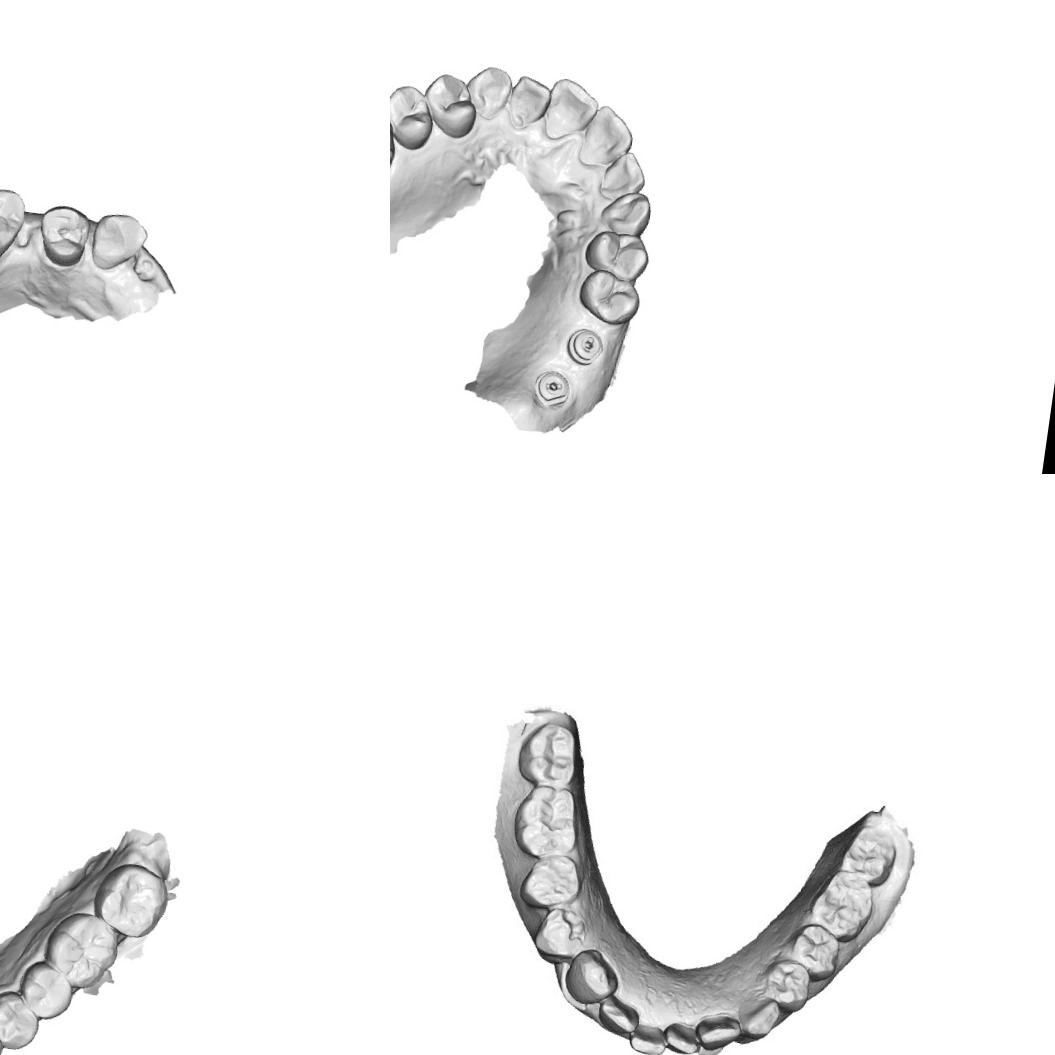canine: (87, 205, 152, 279), (560, 945, 620, 1005), (597, 187, 657, 240), (462, 62, 514, 123), (736, 990, 784, 1042)
implant_minus: (562, 324, 608, 368), (530, 367, 574, 410)
incisor: (538, 74, 602, 145), (576, 102, 638, 172), (503, 72, 554, 136), (596, 147, 651, 203), (595, 992, 644, 1036), (699, 1014, 743, 1054), (627, 1021, 668, 1055), (666, 1021, 701, 1055)
molar: (88, 856, 174, 943), (39, 908, 123, 994), (508, 780, 587, 865), (804, 866, 880, 946), (513, 718, 586, 790), (835, 824, 901, 890), (0, 175, 30, 275)
premolar: (515, 848, 586, 914), (419, 70, 482, 142), (574, 266, 644, 328), (32, 200, 93, 271), (15, 958, 78, 1024), (582, 227, 653, 283), (390, 81, 438, 154), (531, 903, 590, 962), (756, 957, 816, 1011), (787, 922, 841, 980), (0, 986, 43, 1054)
